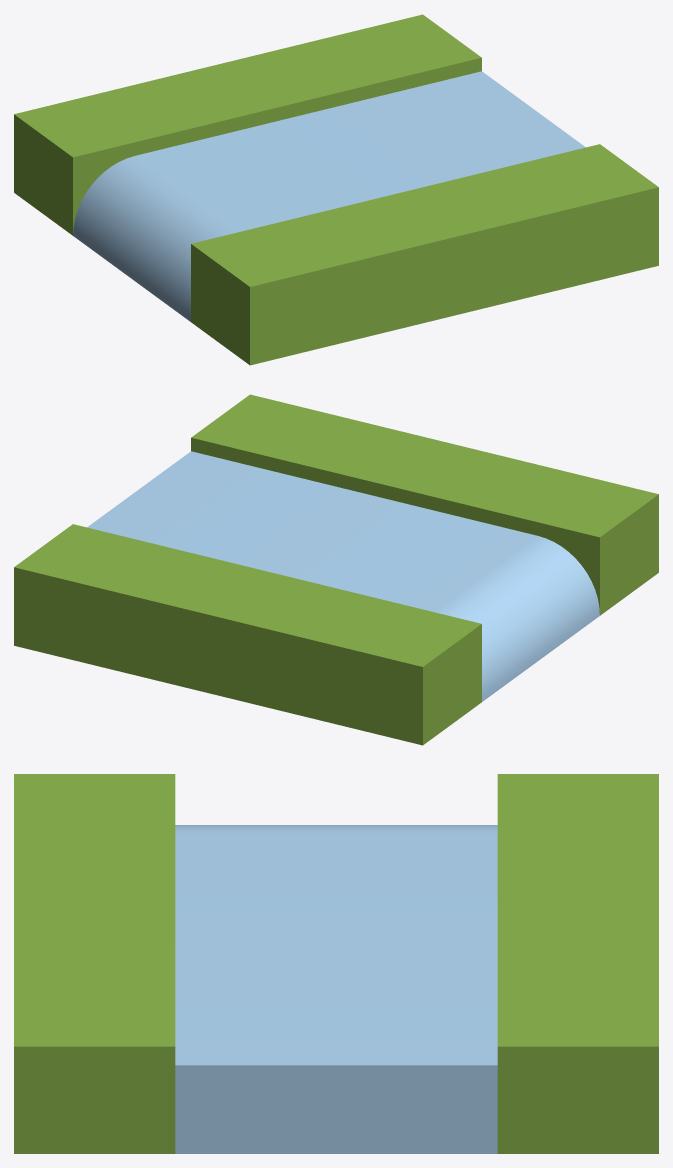
File: tile200.fbx
3 views of the same model, one above another, from view 1: azimuth 30°, elevation 25°; view 2: azimuth 150°, elevation 25°; view 3: azimuth 270°, elevation 25° (orthographic). The views are drawn at different scales.
Parts seen in each view (by area): view 1: tile200; view 2: tile200; view 3: tile200.
Boxes of the visible parts, <box> form: tile200: <box>14,14,658,365</box>; tile200: <box>14,394,658,745</box>; tile200: <box>14,774,658,1153</box>.
Bounding box in the file's own units: 10 × 1.83 × 10.
